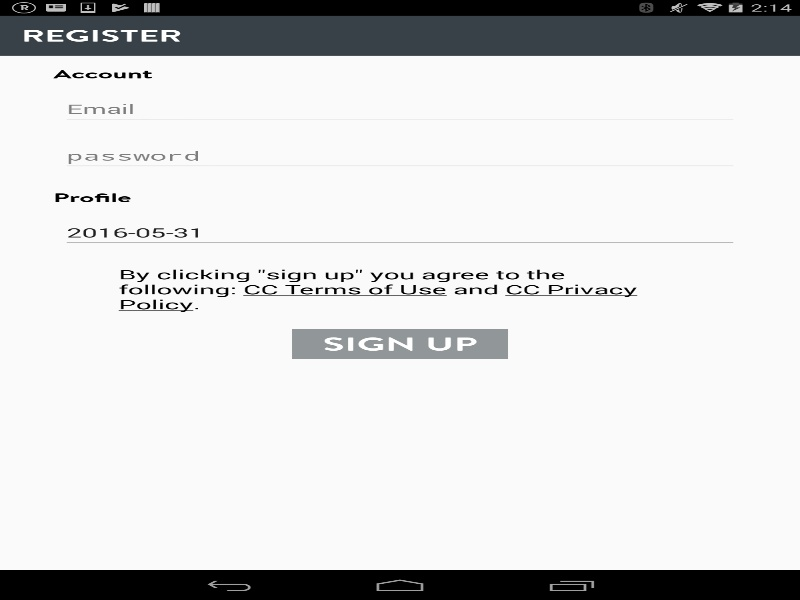Button: (292, 328, 508, 358)
Input: (61, 93, 738, 124), (61, 140, 738, 171), (61, 217, 738, 248)
